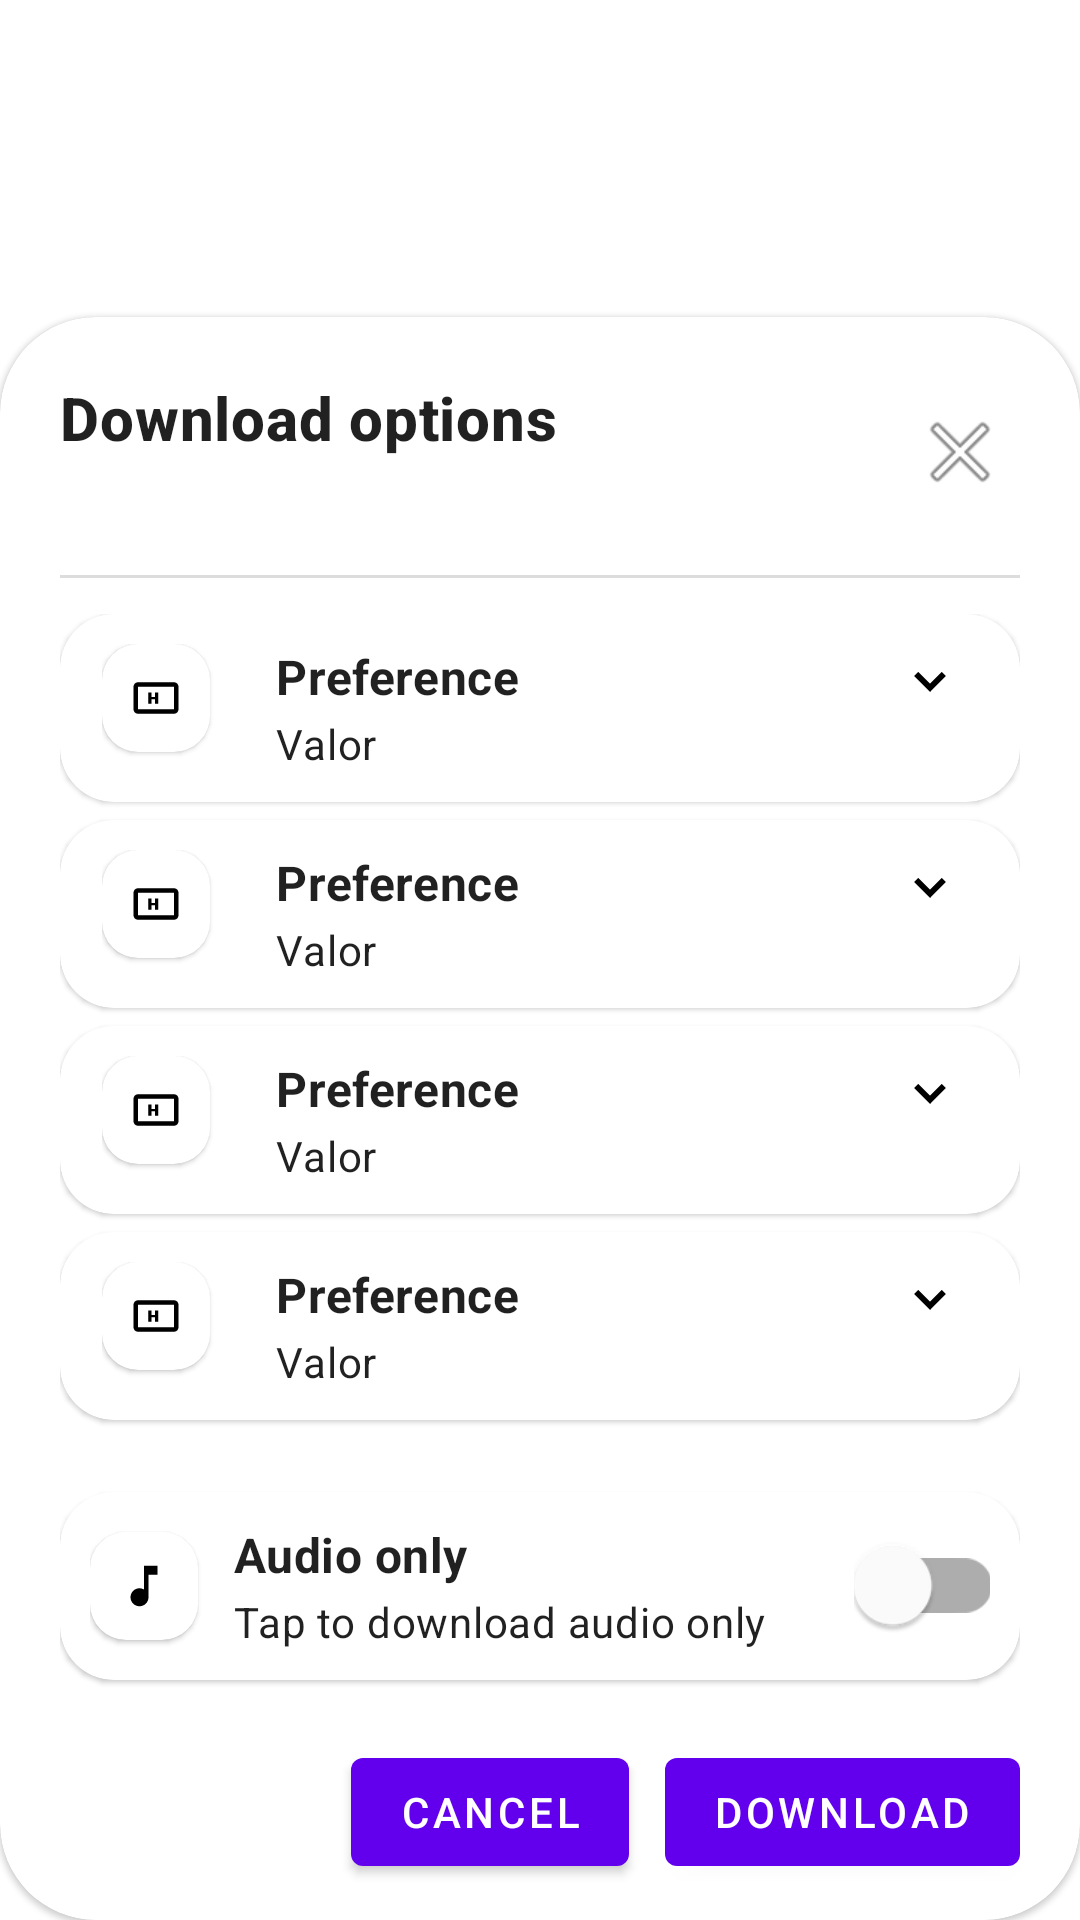

Icons on this 1080w x 1920h Android screen, each with its box as (x1, y1, x2, y2):
Close: (930, 422, 990, 482)
pref chevron: (914, 672, 946, 692), (914, 878, 946, 898), (914, 1084, 946, 1104), (914, 1290, 946, 1310)
pref resolution: (133, 682, 179, 714), (133, 888, 179, 920), (133, 1094, 179, 1126), (133, 1300, 179, 1332)
